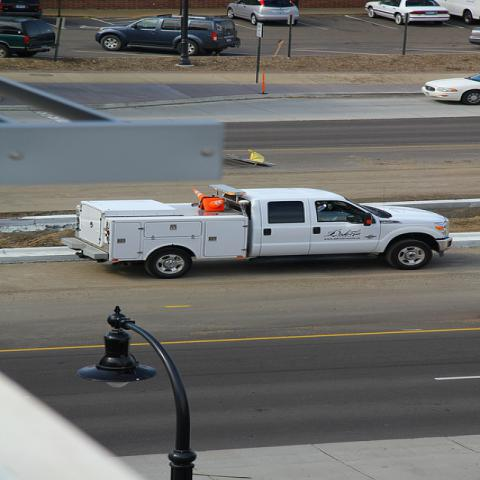car: (95, 17, 241, 56), (1, 13, 55, 58), (364, 0, 450, 26), (420, 73, 479, 105), (226, 0, 300, 25), (432, 0, 479, 25), (1, 0, 45, 19), (468, 26, 479, 46)
truck: (61, 184, 452, 279)
